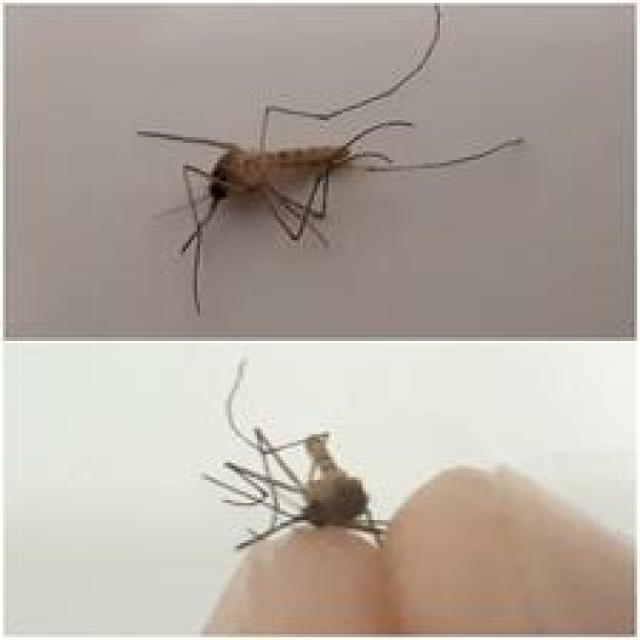Culex: (134, 3, 526, 314)
